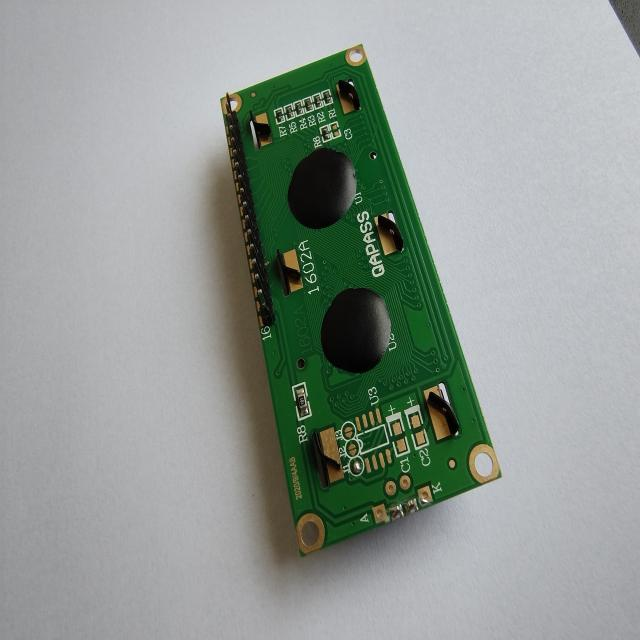lcd: (219, 42, 502, 557)
